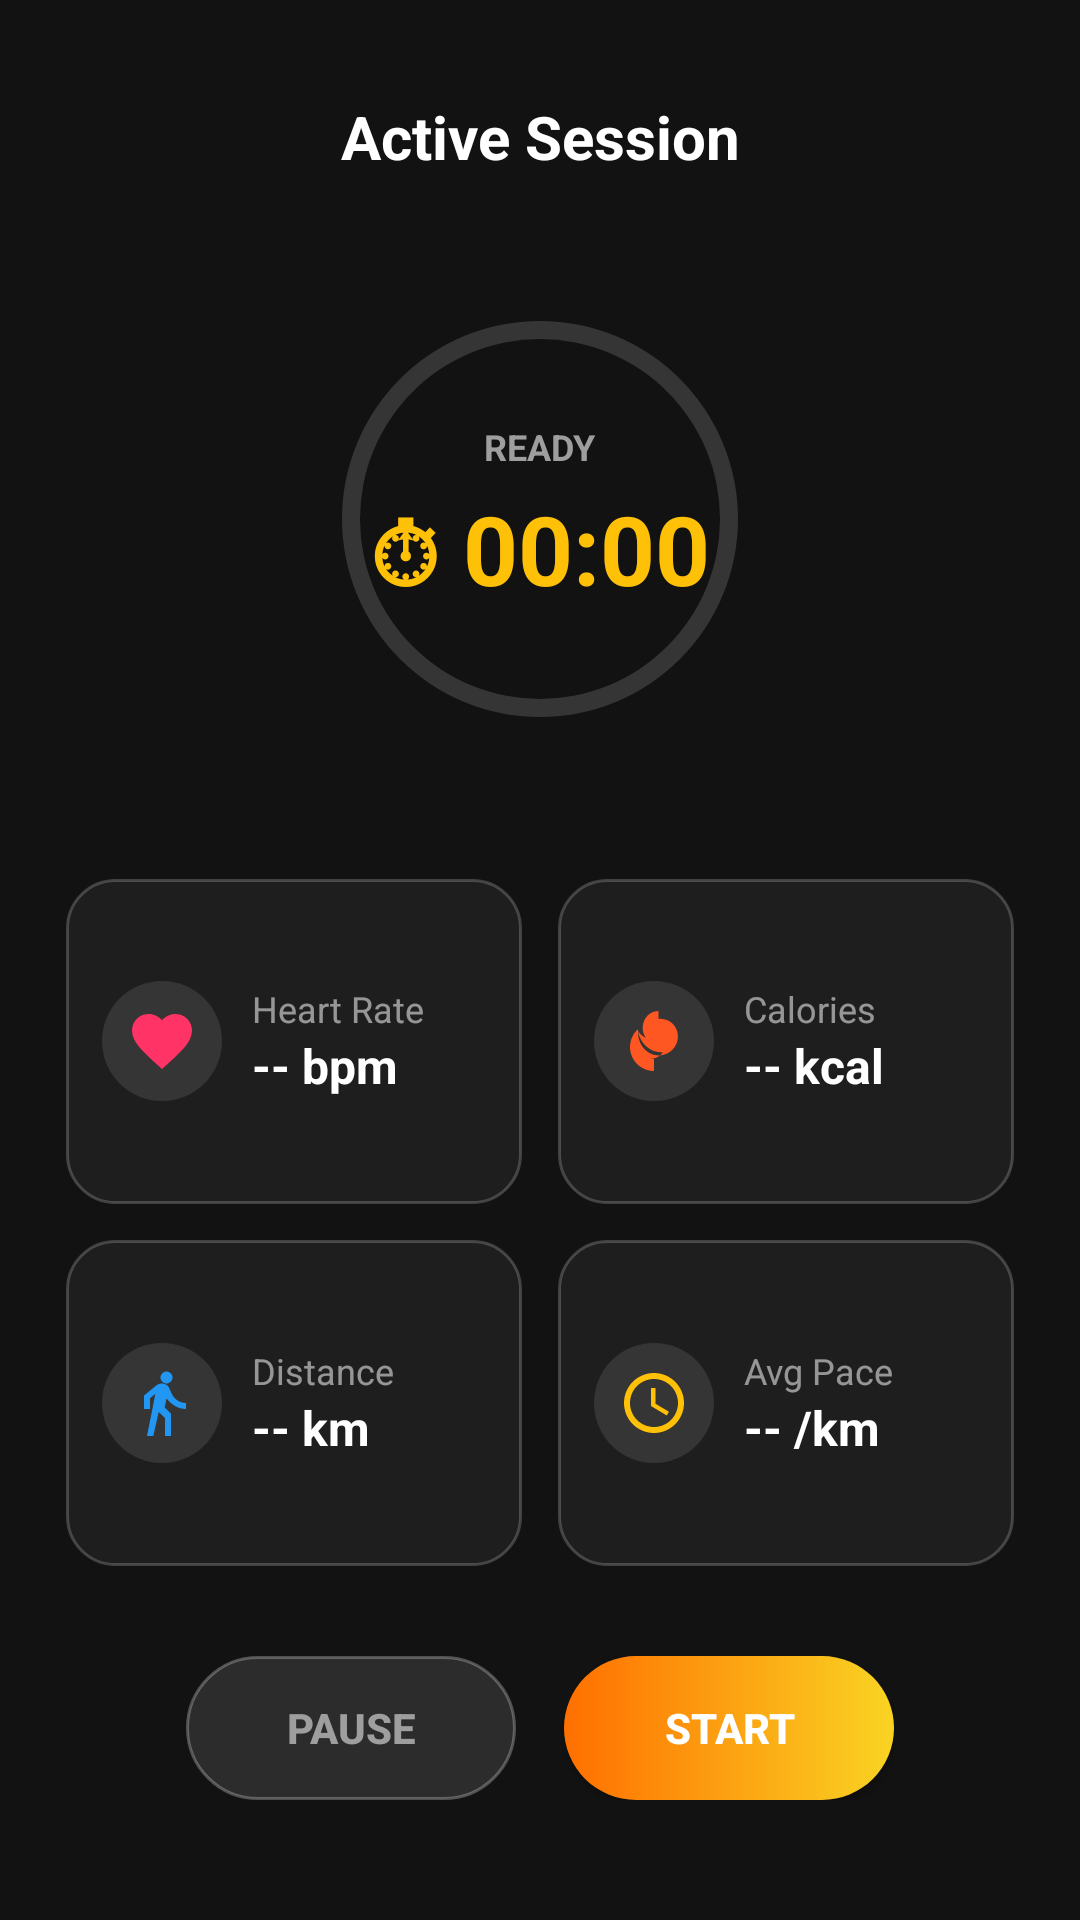

Named icons in this screenshot (1080px×1920px) and their bounding boxes, Rect(x1, y1, x2, y2):
time: Rect(594, 1343, 714, 1463)
